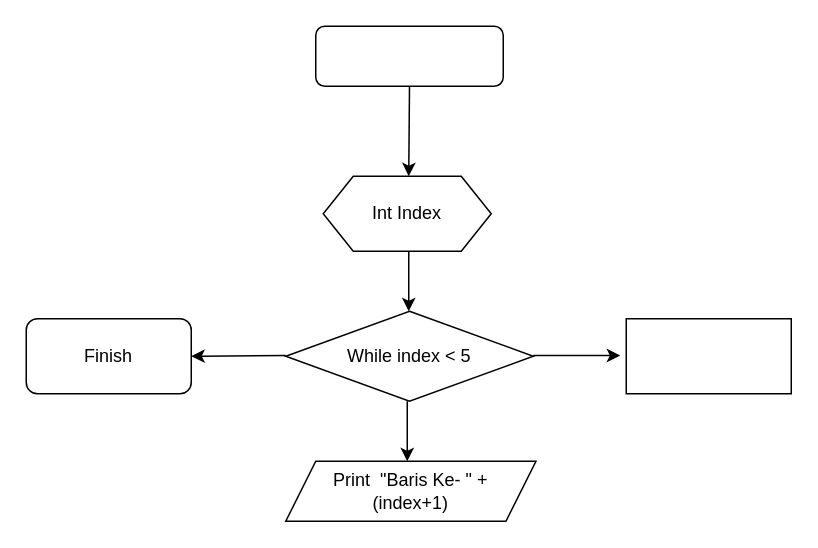
Image size: 818x548. Some labels were removed from this diagram. The shapes that lost their labels are listed below. From the top down, each one's centre as x and y in pixels, then its label:
At (408,55): "Start".
At (708,355): "Index++".
